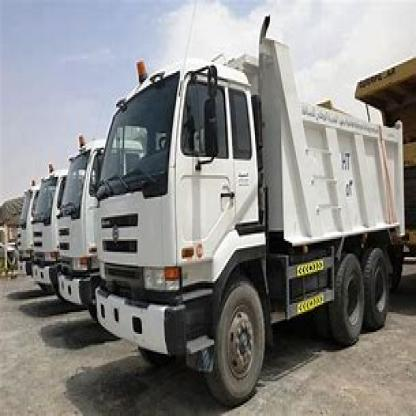dump_truck: (90, 20, 415, 400), (53, 127, 111, 338), (28, 164, 74, 303)
